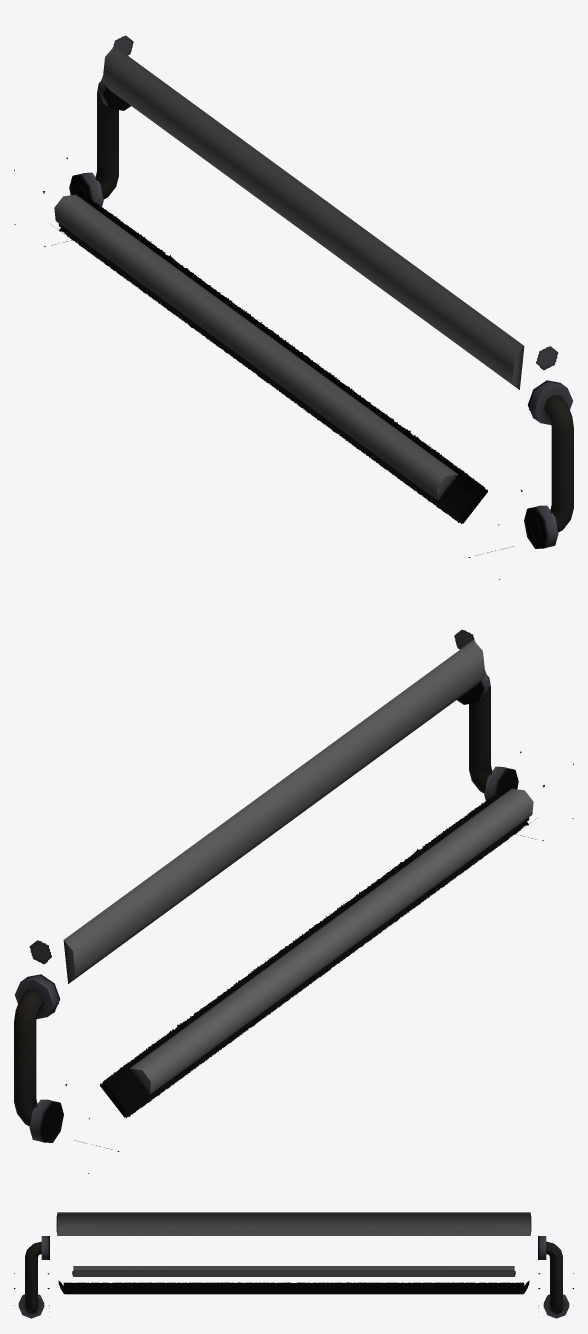
Rendered from obj_factory_building_catwalk_railing_01.fbx.
3 views of the same model, one above another, from view 1: azimuth 30°, elevation 25°; view 2: azimuth 150°, elevation 25°; view 3: azimuth 270°, elevation 25° (orthographic). The views are drawn at different scales.
Parts seen in each view (by area): view 1: obj_factory_building_catwalk_railing_01_lp.001; view 2: obj_factory_building_catwalk_railing_01_lp.001; view 3: obj_factory_building_catwalk_railing_01_lp.001.
Boxes of the visible parts, <box> form: obj_factory_building_catwalk_railing_01_lp.001: <box>14,35,573,579</box>; obj_factory_building_catwalk_railing_01_lp.001: <box>14,629,573,1173</box>; obj_factory_building_catwalk_railing_01_lp.001: <box>14,1212,573,1318</box>.
Size of the model in its own units: 2.44 by 3.83 by 16.
